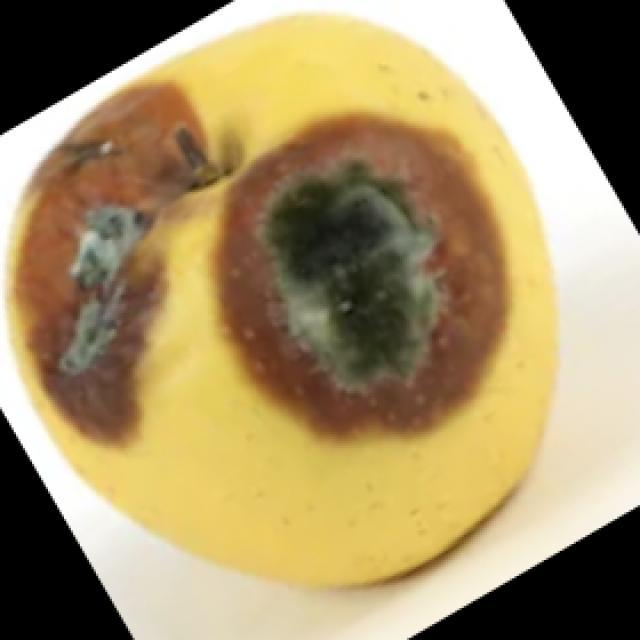Rotten: (34, 25, 544, 582)
